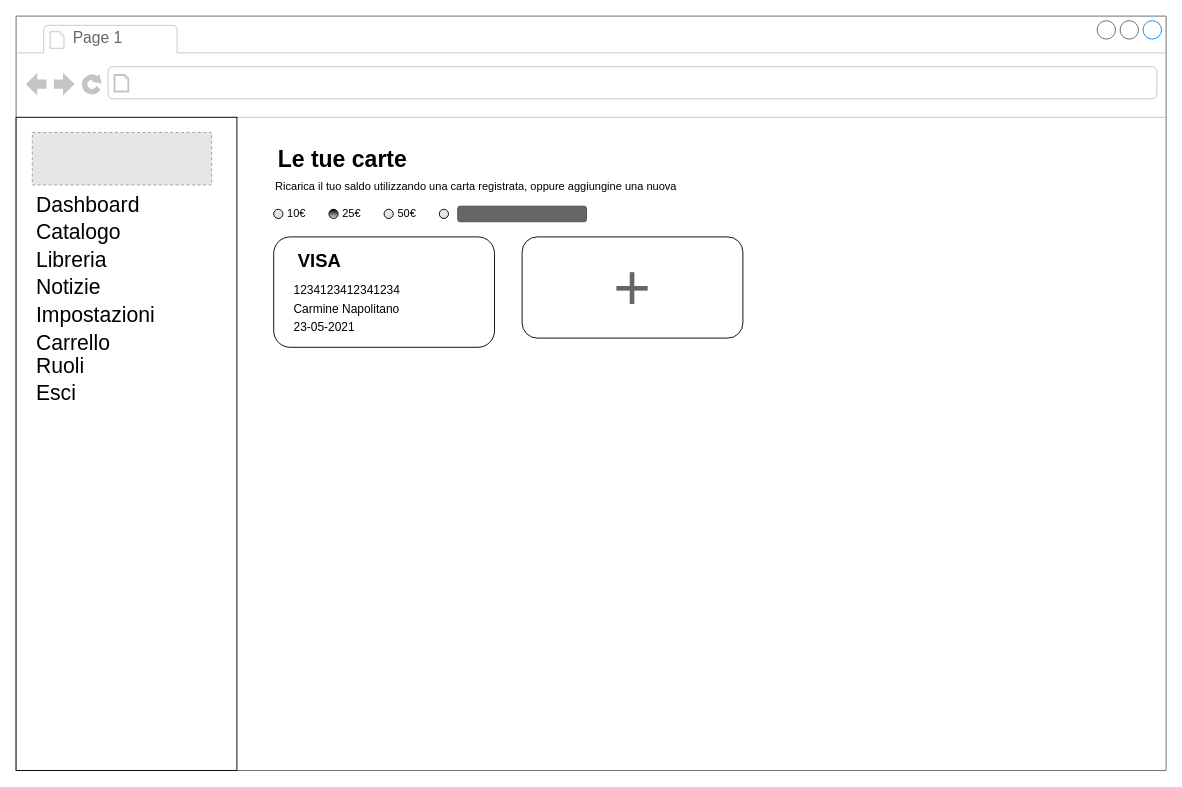
This 1182x787 diagram has some shape labels left out. Grey dashed boxes stand in for pictures. The centre of each missing label's shape, as x and y in pixels:
https://www.default.com: (x=250, y=82)
Inserisci una quantità: (x=521, y=213)
